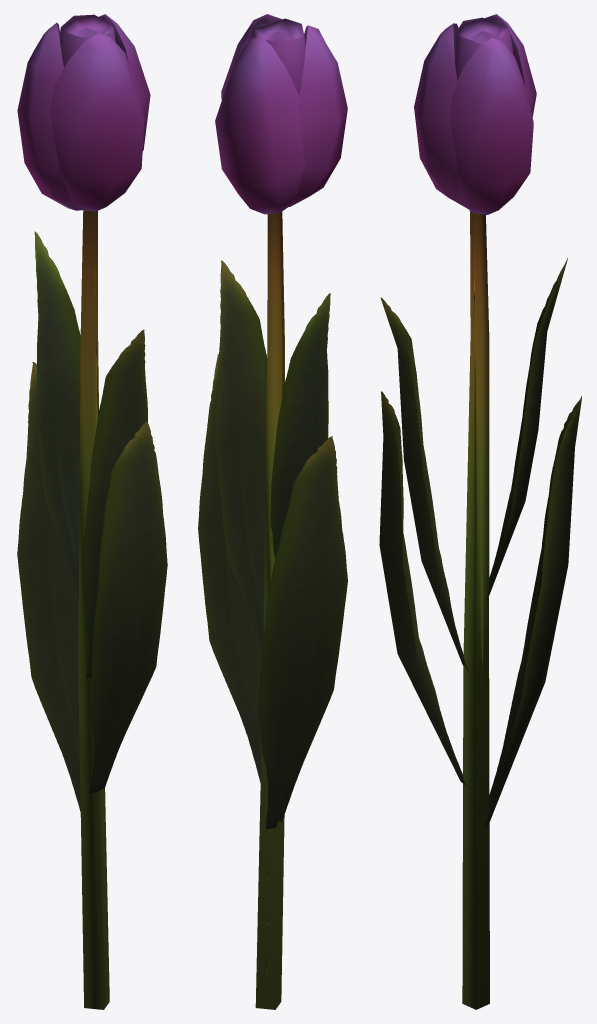
Rendered from Flower_B05.fbx.
The picture shows the model from 3 angles, left to right: view 1: azimuth 30°, elevation 25°; view 2: azimuth 210°, elevation 25°; view 3: azimuth 270°, elevation 25°; orthographic projection.
Visible parts, largest first — view 1: Flower_B05; view 2: Flower_B05; view 3: Flower_B05.
Boxes of the visible parts, x1,y1,x2,y2 form: Flower_B05: (17, 14, 167, 1009); Flower_B05: (198, 14, 347, 1009); Flower_B05: (379, 14, 581, 1009).
Bounding box in the file's own units: 4.77 × 37.82 × 7.15.
